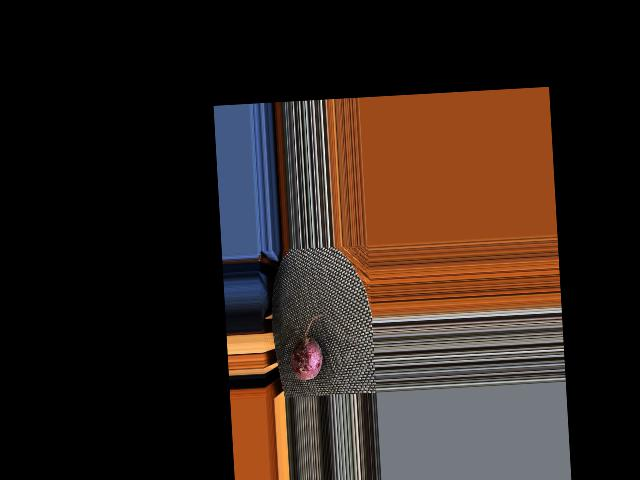beet: (288, 314, 327, 380)
